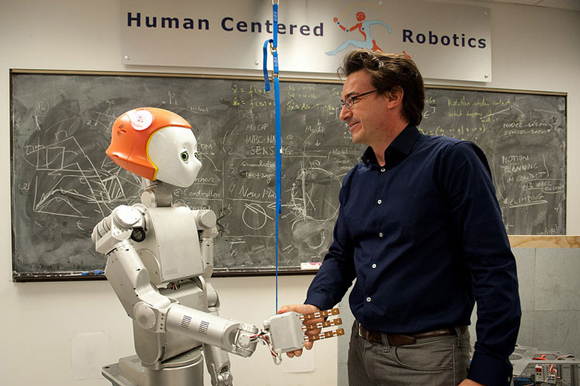person: (275, 44, 526, 386)
person-like: (85, 104, 347, 386)
